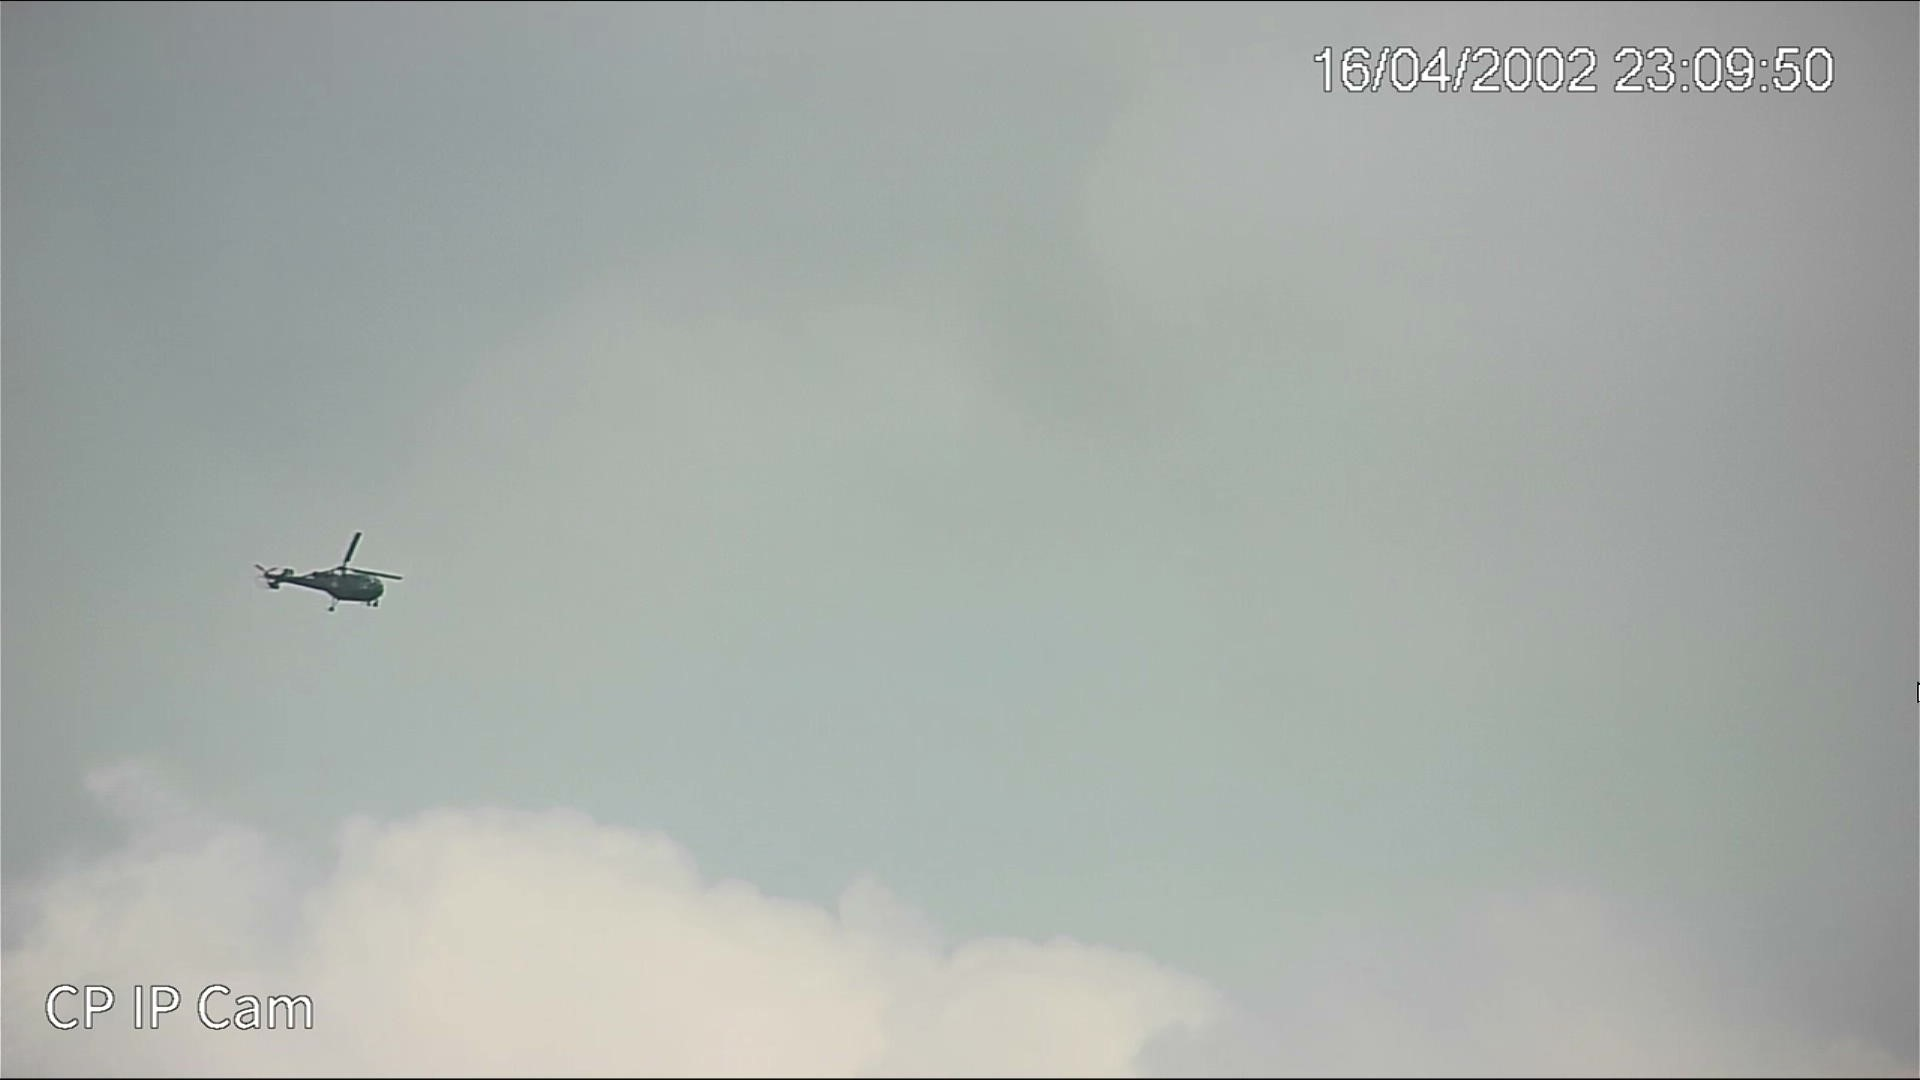SU_30: (252, 551, 389, 611)
